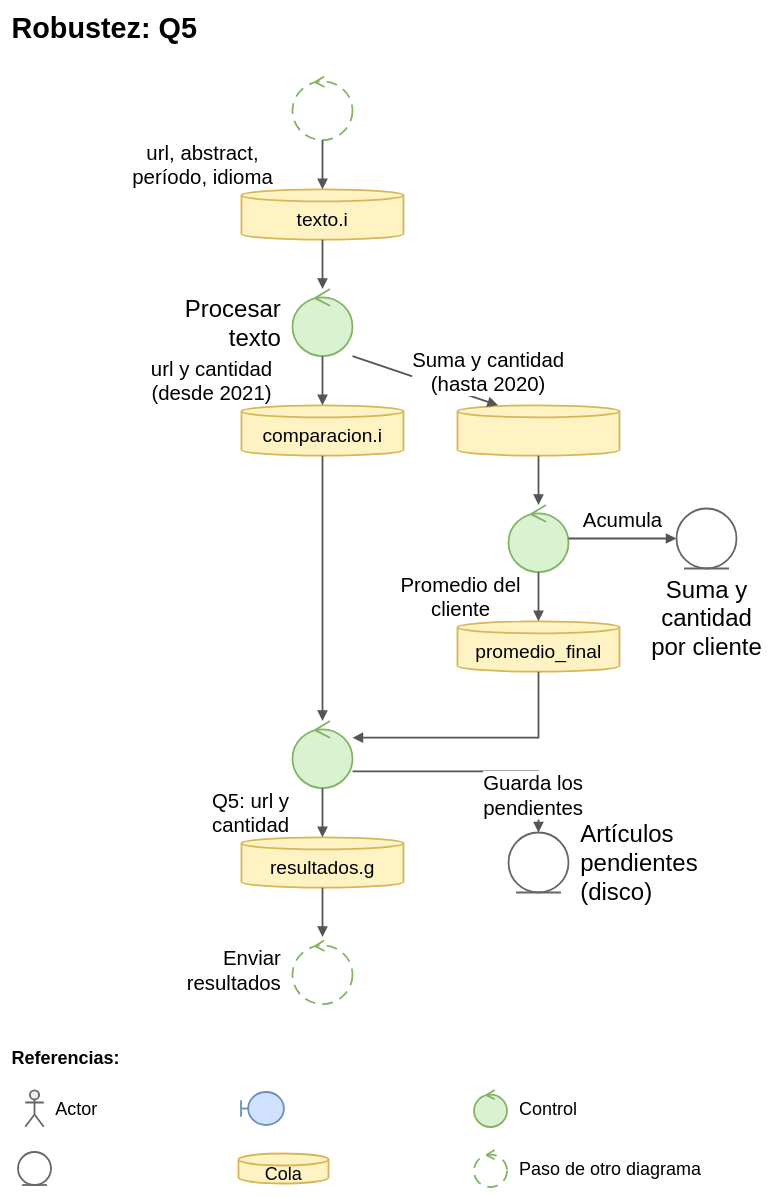
The diagram is 772 pixels wide and 1198 high, and some of its shapes have lost their labels. The shapes that lost their labels are listed below. From the top down, each one's centre as x and y in pixels, then its label:
pixel 322 106: Clasificar artículo
pixel 538 430: promedio.k
pixel 538 538: Calcular promedio
pixel 322 754: Comparar con el promedio
pixel 262 1108: Interfaz
pixel 34 1168: Entidad
